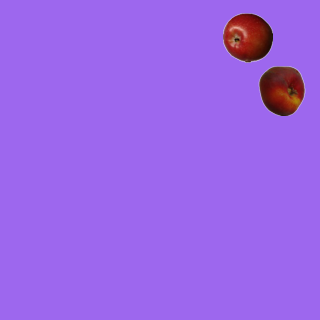Apple Braeburn: (222, 12, 272, 62)
Nectarine Flat: (256, 65, 306, 115)
